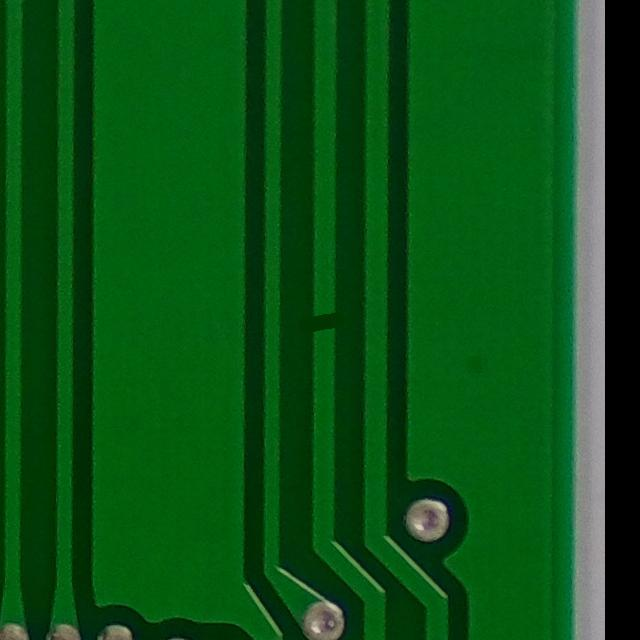open_circuit: (296, 292, 345, 348)
